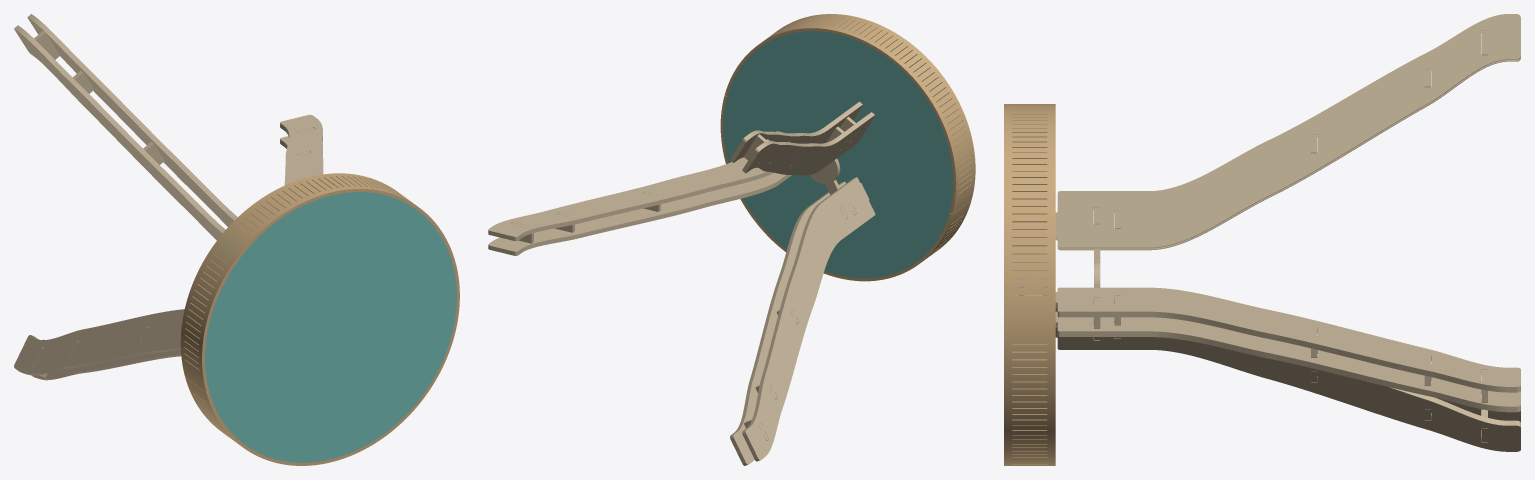
The model's file is A-actual-DESIGN_ONLY.glb.
3 renders of one model, left to right at view 1: azimuth 30°, elevation 25°; view 2: azimuth 150°, elevation 25°; view 3: azimuth 270°, elevation 25°, orthographic. The views are drawn at different scales.
Parts seen in each view (by area): view 1: P07T, P07R1, L3_P01_1, L2_P01_2, L2_P01_1, L1_P01_2, P07R2, L3_P01_2; view 2: P07B, L3_P01_1, P07R1, L1_P01_2, L1_P01_1, L2_P01_2, L3_P01_2, P07R2, L2_P01_1, P03; view 3: L2_P01_1, L1_P01_2, P07R1, L3_P01_2, L1_P01_1, P07R2, L2_P01_2, P03.
Boxes of the visible parts, left/top/right/bottom form: P07T: left=205, top=192, right=456, bottom=462; P07R1: left=180, top=173, right=455, bottom=392; L3_P01_1: left=14, top=309, right=184, bottom=375; L2_P01_2: left=14, top=25, right=225, bottom=240; L2_P01_1: left=27, top=14, right=237, bottom=226; L1_P01_2: left=280, top=114, right=323, bottom=185; P07R2: left=185, top=262, right=459, bottom=465; L3_P01_2: left=31, top=339, right=181, bottom=380; P07B: left=723, top=31, right=953, bottom=278; L3_P01_1: left=742, top=177, right=875, bottom=461; P07R1: left=724, top=14, right=975, bottom=213; L1_P01_2: left=488, top=131, right=783, bottom=241; L1_P01_1: left=488, top=172, right=791, bottom=255; L2_P01_2: left=742, top=112, right=874, bottom=175; L3_P01_2: left=730, top=181, right=845, bottom=465; P07R2: left=720, top=95, right=971, bottom=281; L2_P01_1: left=730, top=101, right=862, bottom=162; P03: left=809, top=116, right=856, bottom=214; L2_P01_1: left=1055, top=14, right=1520, bottom=248; L1_P01_2: left=1016, top=287, right=1520, bottom=392; P07R1: left=1004, top=104, right=1055, bottom=316; L3_P01_2: left=1055, top=321, right=1520, bottom=451; L1_P01_1: left=1055, top=311, right=1520, bottom=412; P07R2: left=1004, top=262, right=1055, bottom=465; L2_P01_2: left=1055, top=31, right=1520, bottom=250; P03: left=1094, top=207, right=1100, bottom=340.
Size of the model in its own units: 0.437 by 0.4673 by 0.5.
